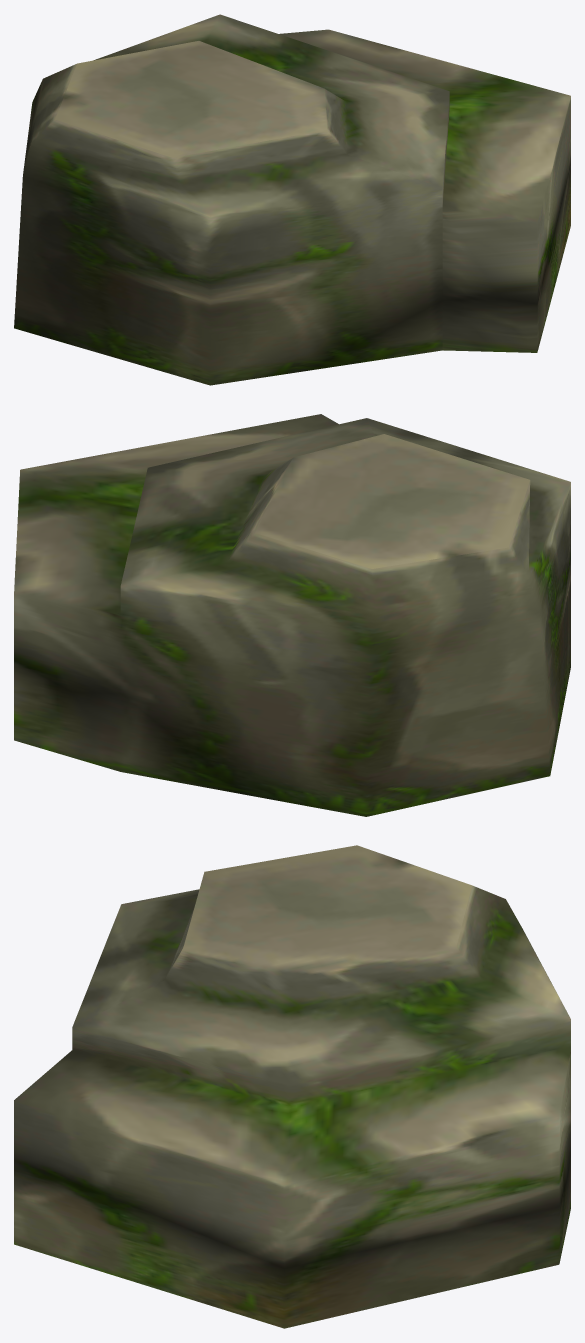
The model's file is RockFormation_4_5 (11).fbx.
The picture shows the model from 3 angles, top to bottom: view 1: azimuth 30°, elevation 25°; view 2: azimuth 150°, elevation 25°; view 3: azimuth 270°, elevation 25°; orthographic projection. The views are drawn at different scales.
Visible parts, largest first — view 1: RockFormation_4_5 (11); view 2: RockFormation_4_5 (11); view 3: RockFormation_4_5 (11).
Part boxes in pixels (x1,y1,x2,y2): RockFormation_4_5 (11): [14, 14, 570, 385]; RockFormation_4_5 (11): [14, 414, 570, 816]; RockFormation_4_5 (11): [14, 845, 570, 1328].
Size of the model in its own units: 550 by 201 by 457.
